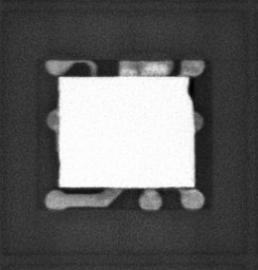DIE_BROKEN: (185, 73, 195, 101)
